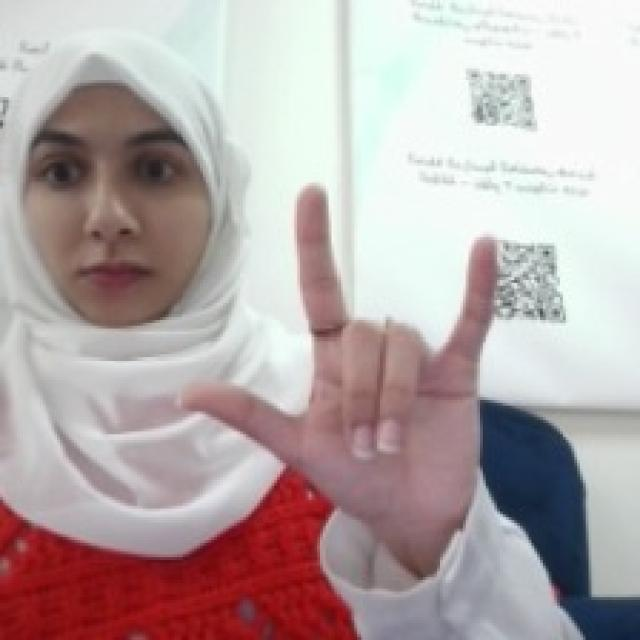love: (174, 177, 503, 526)
